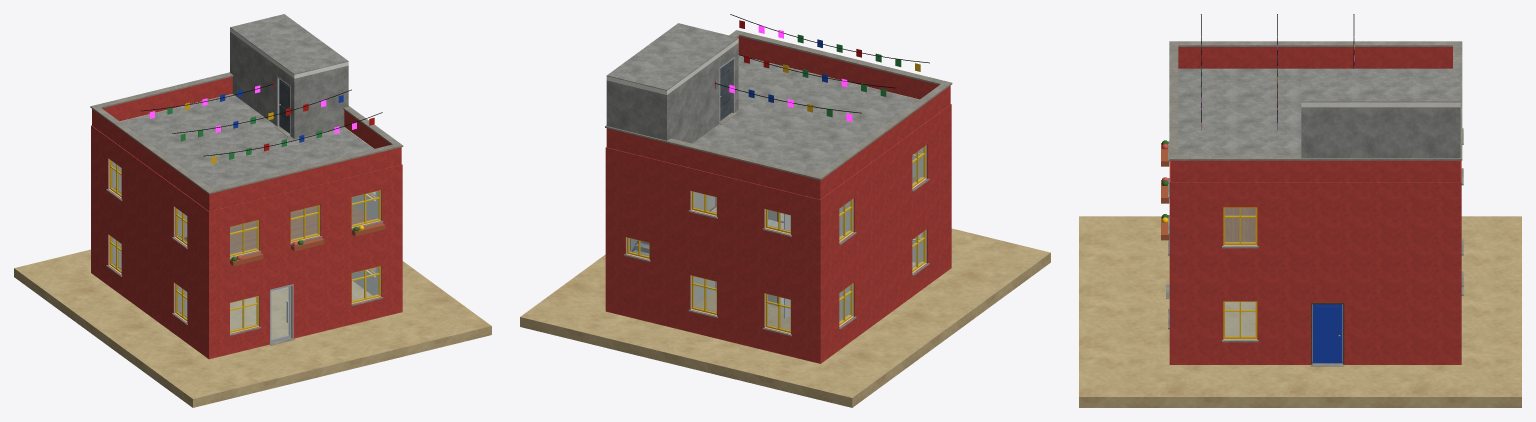
Rendered from b_mexico_casa.gltf.
3 renders of one model, left to right at view 1: azimuth 30°, elevation 25°; view 2: azimuth 150°, elevation 25°; view 3: azimuth 270°, elevation 25°, orthographic. The views are drawn at different scales.
Visible parts, largest first — view 1: S_mexico_casa, D_mexico_casa_F1_S2_Door0, D_mexico_casa_PH_W0_Door0; view 2: S_mexico_casa, D_mexico_casa_PH_W0_Door0; view 3: S_mexico_casa, D_mexico_casa_F1_E1_Door0.
Boxes of the visible parts, x1,y1,x2,y2 form: S_mexico_casa: (14, 14, 491, 407); D_mexico_casa_F1_S2_Door0: (271, 286, 290, 342); D_mexico_casa_PH_W0_Door0: (279, 79, 289, 133); S_mexico_casa: (520, 14, 1050, 407); D_mexico_casa_PH_W0_Door0: (720, 61, 731, 120); S_mexico_casa: (1079, 14, 1521, 407); D_mexico_casa_F1_E1_Door0: (1312, 304, 1342, 363).
Bounding box in the file's own units: 14 × 9.9 × 14.5.
28 materials, 13 textured.
